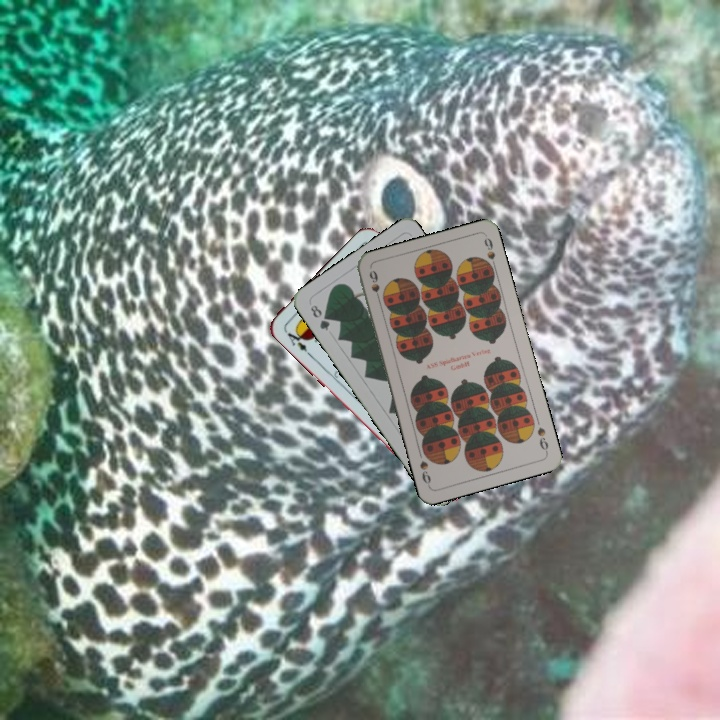EA: (280, 325, 313, 358)
G8: (306, 301, 333, 333)
S9: (365, 266, 384, 306), (533, 423, 551, 455)
